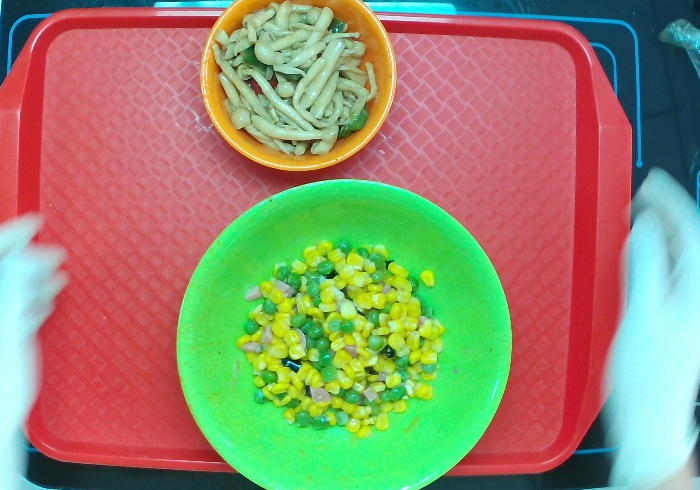YKMZ-Ju_Se_Yuan_Wan: (197, 1, 398, 174)
YKMZ-Lv_Se_Tang_Wan: (173, 176, 514, 490)
